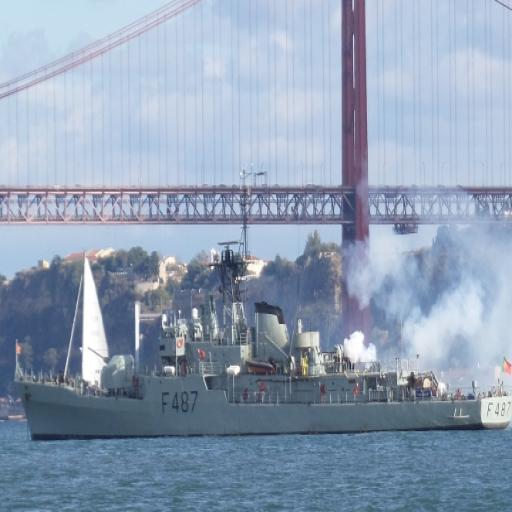Fragata: (11, 207, 512, 449)
